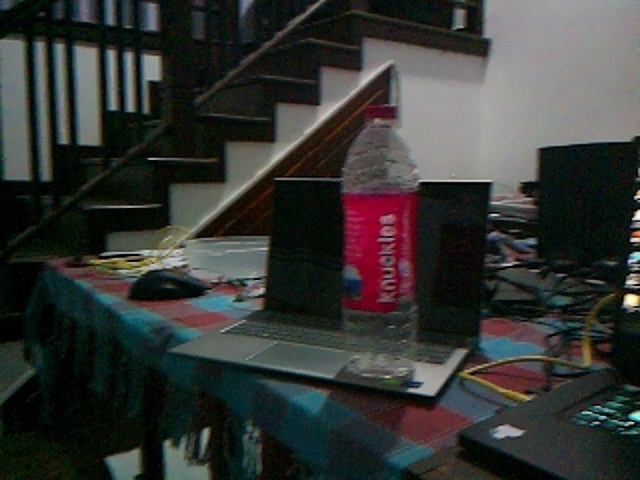bottle: (336, 104, 423, 387)
